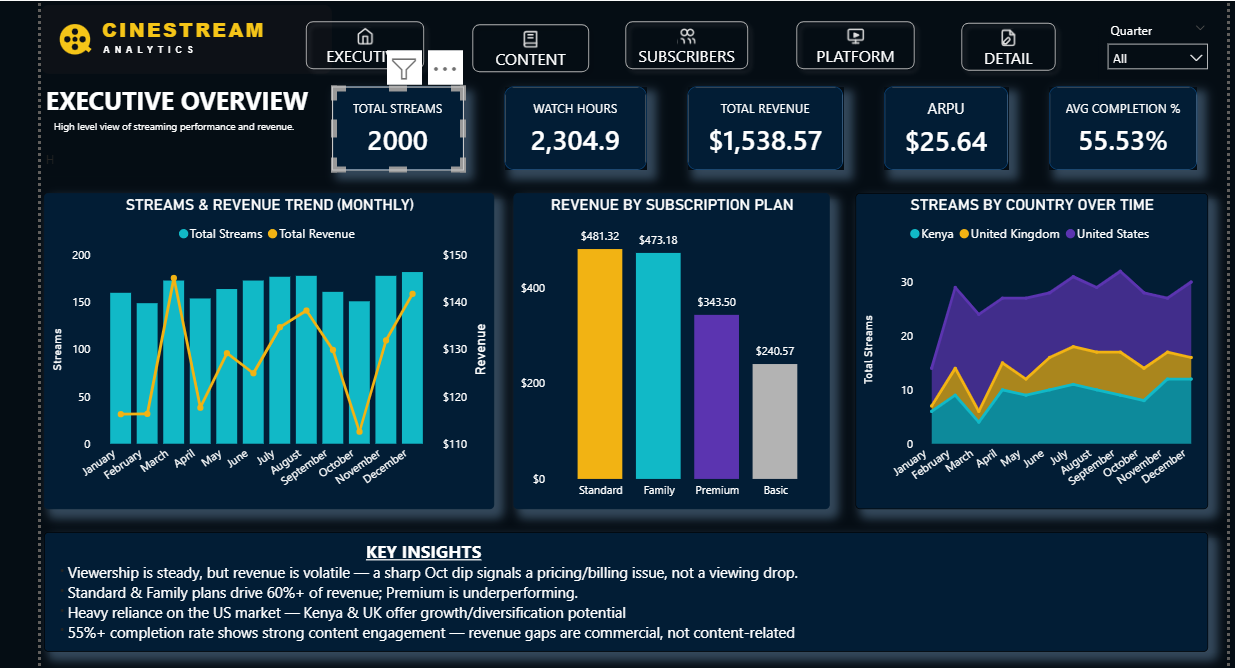

This screenshot's page, from the dashboard's own definition file:
{"tool":"powerbi","page":{"name":"EXECUTVE","canvas":[1280,720],"ordinal":0},"visuals":[{"type":"image","box":[0,0,314.1,82.6],"z":0},{"type":"slicer","fields":{"Values":["Date.Quarter"]},"box":[1141.6,16.2,127.9,69.6],"z":1000},{"type":"actionButton","box":[456.6,16.2,144.1,69.6],"z":2000},{"type":"actionButton","box":[621.8,13,150.6,69.6],"z":3000},{"type":"actionButton","box":[806.4,13,145.7,69.6],"z":4000},{"type":"actionButton","box":[984.5,14.6,119.8,69.6],"z":5000},{"type":"actionButton","box":[276.9,13,145.7,69.6],"z":6000},{"type":"textbox","box":[0,84.2,314.1,105.2],"z":7000},{"type":"cardVisual","fields":{"Data":["_Measures.Total Streams"]},"box":[314.1,92.3,142.5,90.7],"z":8000},{"type":"cardVisual","fields":{"Data":["_Measures.Total Watch Hours"]},"box":[500.3,92.3,153.8,90.7],"z":9000},{"type":"cardVisual","fields":{"Data":["_Measures.Total Revenue"]},"box":[697.9,92.3,168.4,90.7],"z":10000},{"type":"cardVisual","fields":{"Data":["_Measures.ARPU"]},"box":[910,92.3,134.4,90.7],"z":11000},{"type":"cardVisual","fields":{"Data":["_Measures.Avg Completion %"]},"box":[1088.1,92.3,160.3,90.7],"z":12000},{"type":"lineStackedColumnComboChart","title":"STREAMS & REVENUE TREND (MONTHLY)","fields":{"Category":["Date.MonthName"],"Y":["_Measures.Total Streams"],"Y2":["_Measures.Total Revenue"]},"box":[3.2,207.3,485.8,341.7],"z":13000},{"type":"clusteredColumnChart","title":"REVENUE BY SUBSCRIPTION PLAN","fields":{"Y":["_Measures.Total Revenue"],"Category":["Customer.SubscriptionPlan"]},"box":[510.1,207.3,341.7,341.7],"z":14000},{"type":"stackedAreaChart","title":"STREAMS BY COUNTRY OVER TIME","fields":{"Category":["Date.MonthName"],"Y":["_Measures.Total Streams"],"Series":["Customer.Country"]},"box":[879.2,207.3,380.5,341.7],"z":15000},{"type":"textbox","box":[3.2,573.2,1256.5,129.5],"z":16000}]}

Visuals, with their boxes on the page's 1280x720 design canvas (x1, y1, x2, y2). These are canvas units, not pixel positions in the 1235x668 screenshot, which may show the page scaled, cropped or inside an application window:
image: Rect(0, 0, 314, 83)
slicer - Date.Quarter: Rect(1142, 16, 1270, 86)
actionButton: Rect(457, 16, 601, 86)
actionButton: Rect(622, 13, 772, 83)
actionButton: Rect(806, 13, 952, 83)
actionButton: Rect(984, 15, 1104, 84)
actionButton: Rect(277, 13, 423, 83)
textbox: Rect(0, 84, 314, 189)
cardVisual - _Measures.Total Streams: Rect(314, 92, 457, 183)
cardVisual - _Measures.Total Watch Hours: Rect(500, 92, 654, 183)
cardVisual - _Measures.Total Revenue: Rect(698, 92, 866, 183)
cardVisual - _Measures.ARPU: Rect(910, 92, 1044, 183)
cardVisual - _Measures.Avg Completion %: Rect(1088, 92, 1248, 183)
"STREAMS & REVENUE TREND (MONTHLY)" lineStackedColumnComboChart: Rect(3, 207, 489, 549)
"REVENUE BY SUBSCRIPTION PLAN" clusteredColumnChart: Rect(510, 207, 852, 549)
"STREAMS BY COUNTRY OVER TIME" stackedAreaChart: Rect(879, 207, 1260, 549)
textbox: Rect(3, 573, 1260, 703)
